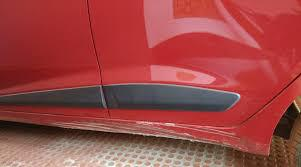RunningBoard-Dent: (106, 109, 254, 150), (0, 109, 116, 135)
